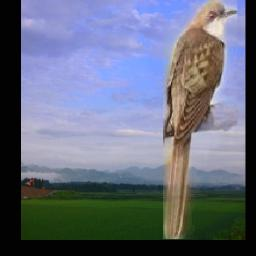Cuckoo: (164, 1, 238, 240)
